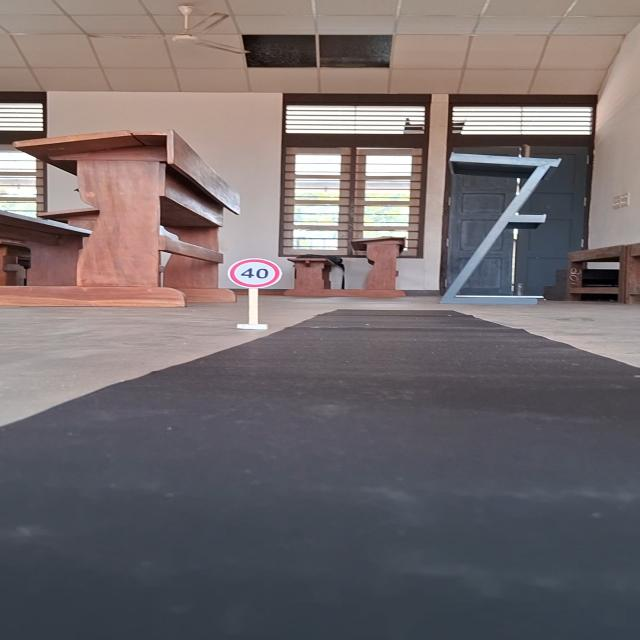Speed40: (223, 256, 284, 291)
